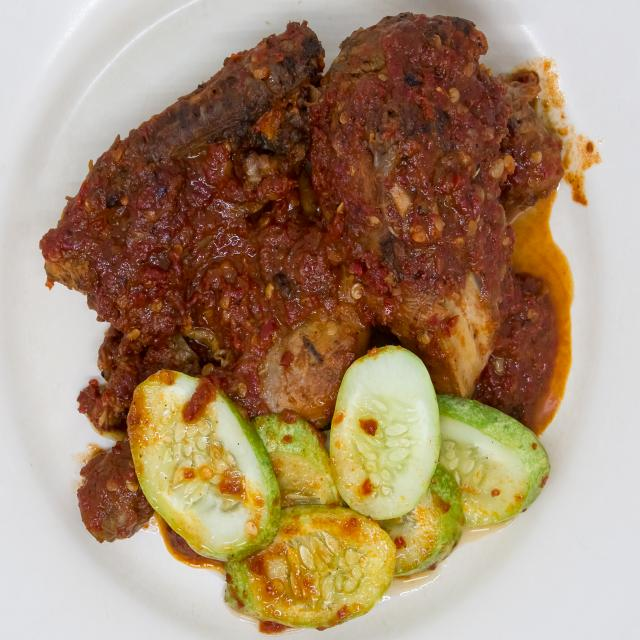Ayam-Bumbu-Rujak: (33, 10, 566, 560)
